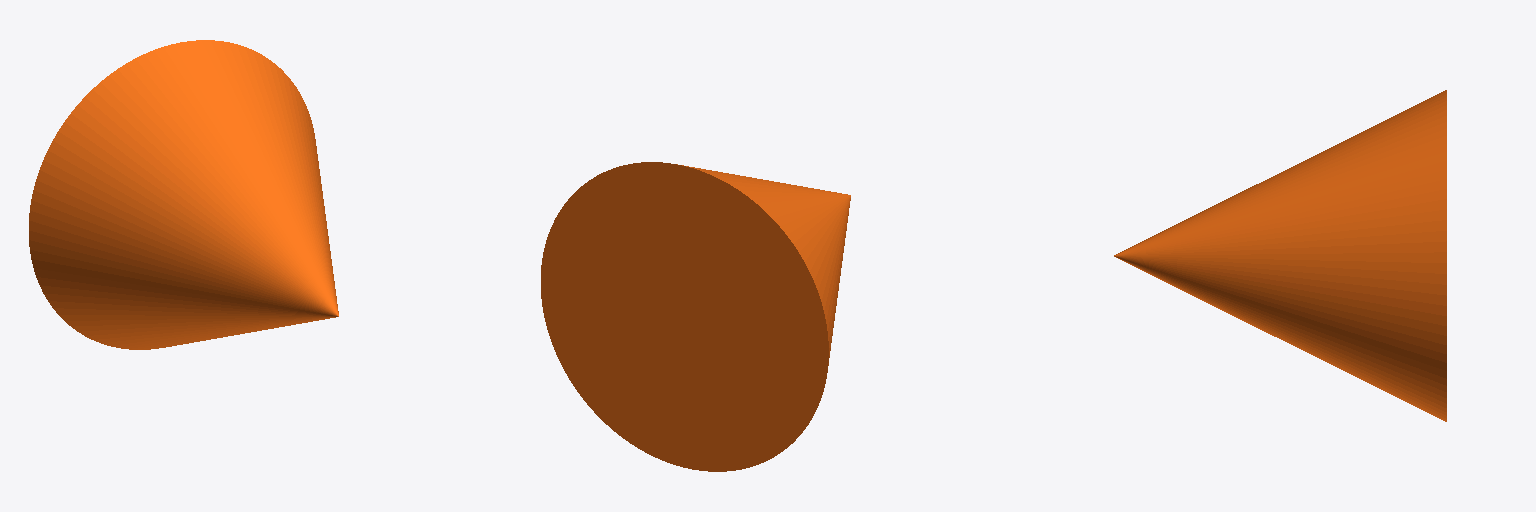
The model's file is arrow3.obj.
3 renders of one model, left to right at view 1: azimuth 30°, elevation 25°; view 2: azimuth 150°, elevation 25°; view 3: azimuth 270°, elevation 25°, orthographic.
Visible parts, largest first — view 1: default; view 2: default; view 3: default.
Part boxes in pixels (bbox=[...]): default: bbox=[29, 40, 338, 349]; default: bbox=[541, 162, 850, 471]; default: bbox=[1114, 90, 1446, 421].
Size of the model in its own units: 10.33 by 10.33 by 10.33.